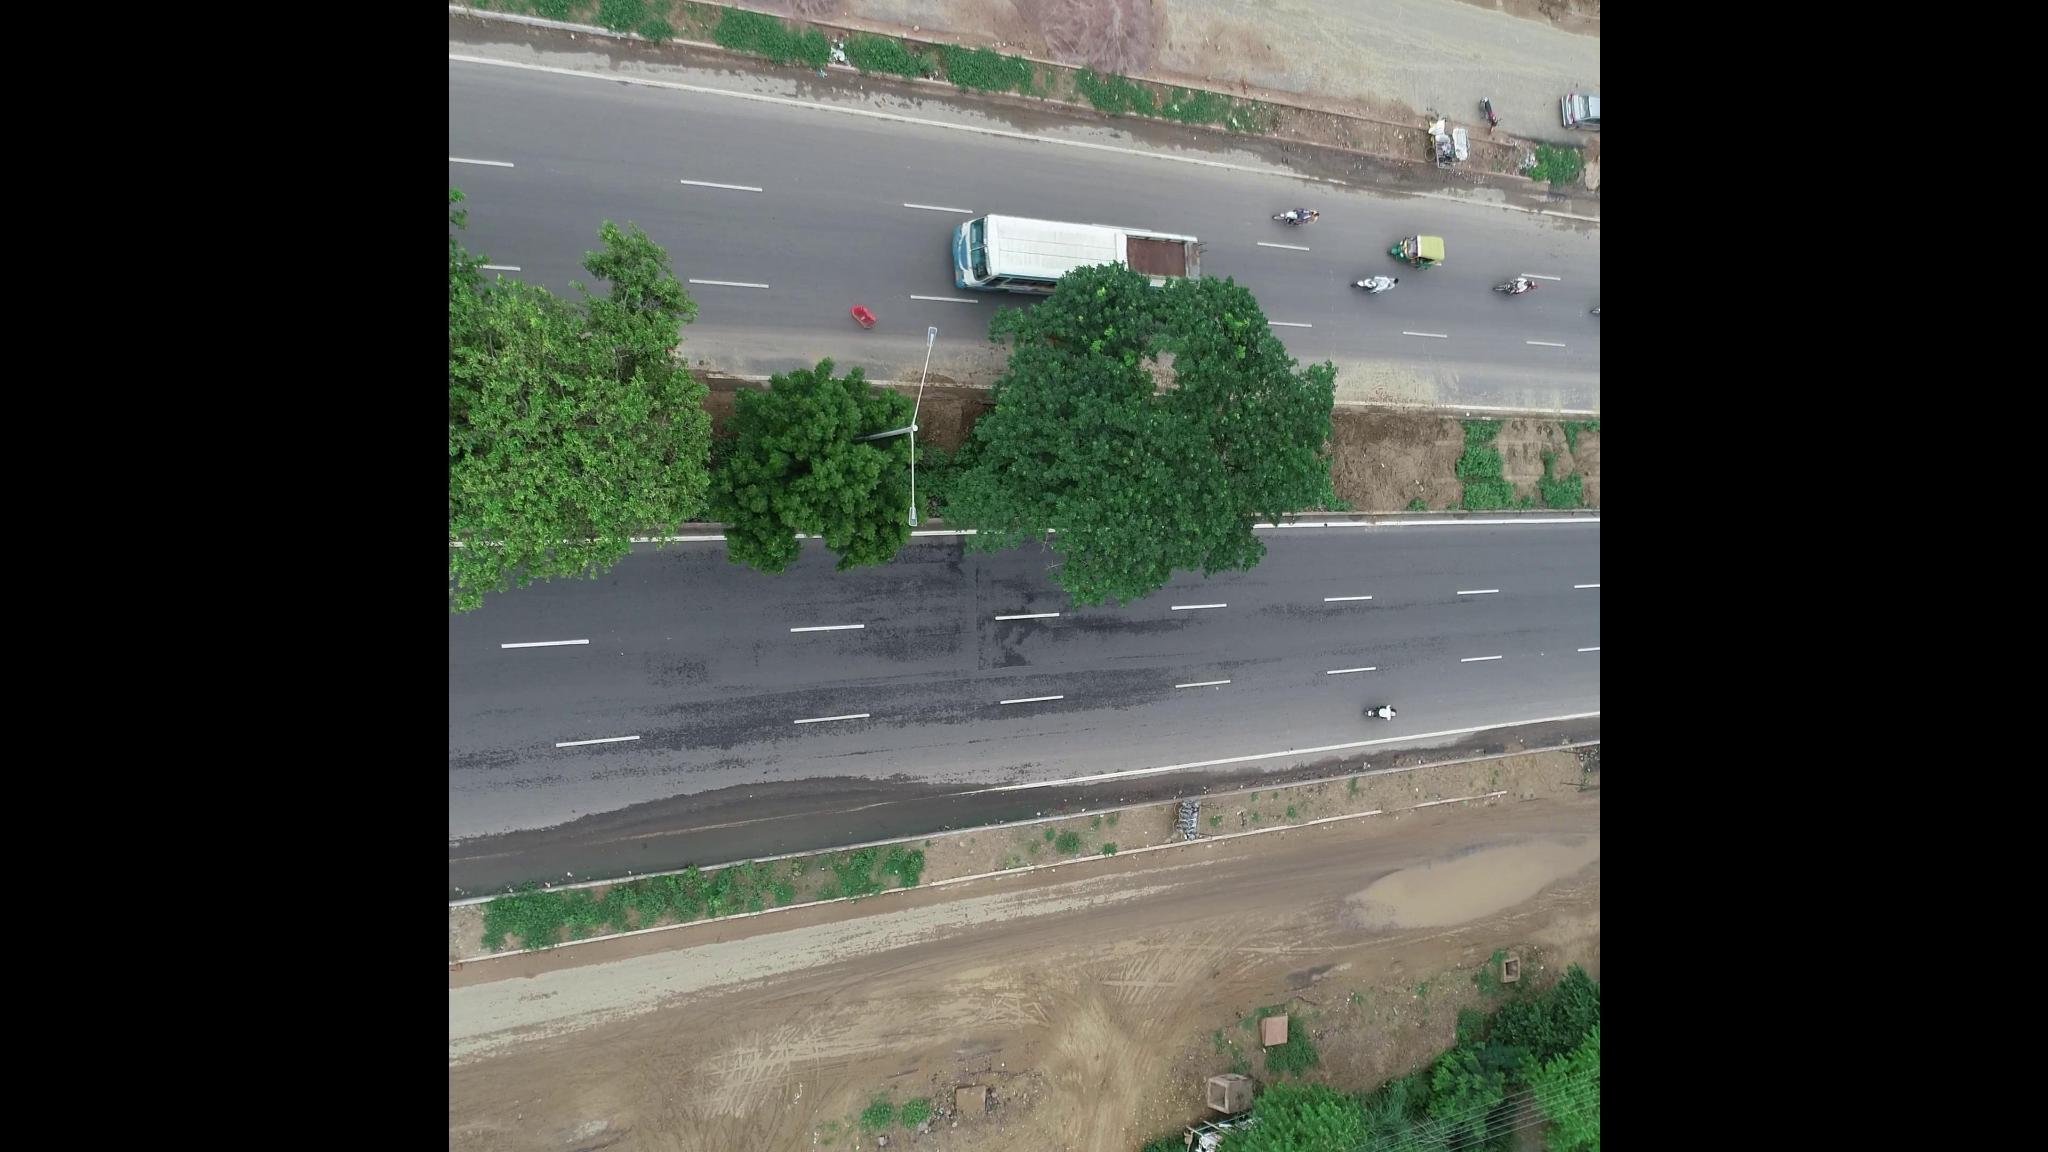Muddy_road: (956, 1, 1246, 68)
Ravelling: (685, 654, 1173, 755), (973, 587, 1220, 660)
